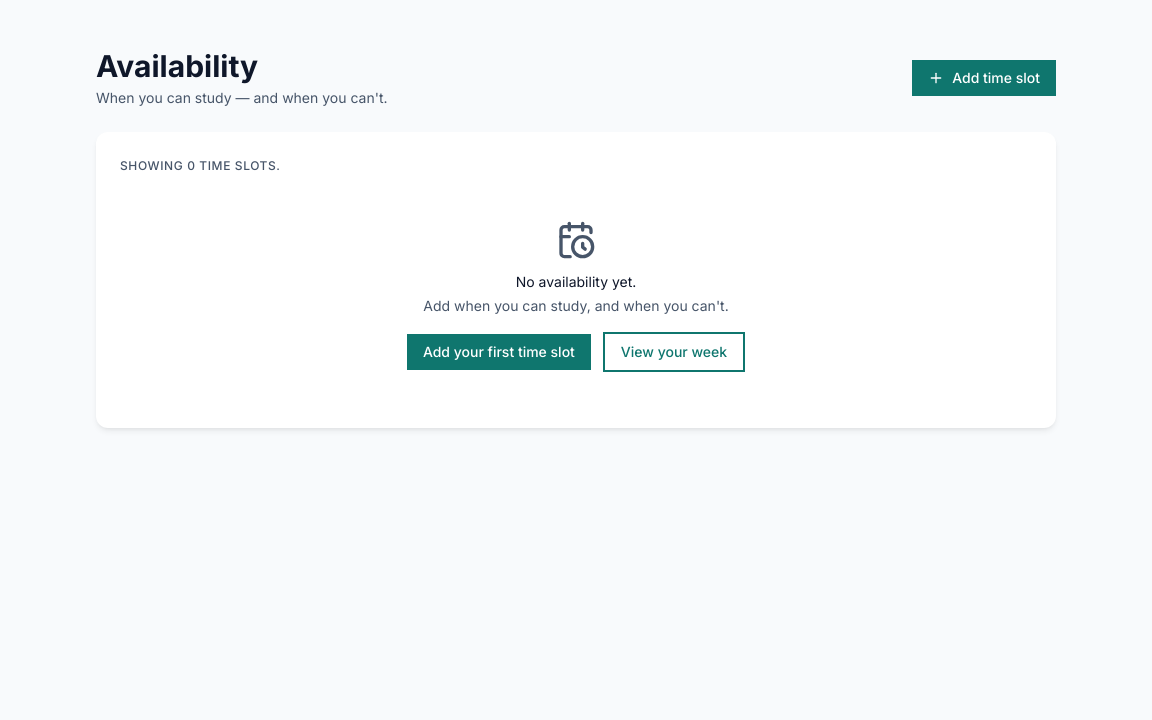
AvailabilityPage loading, empty, and error states (AC 6, D128B-10) › renders the empty state ("No availability yet.") with the working add CTA and the calendar link
Expected: the text "No availability yet." is shown, top-left (516, 273), bottom-right (636, 290)
Expected: the text "Add when you can study, and when you can't." is shown, top-left (423, 297), bottom-right (729, 314)
// The empty-state CTA opens the same dialog the header button opens.
Click the button "Add your first time slot": point(499, 352) top-left (407, 334), bottom-right (591, 370)
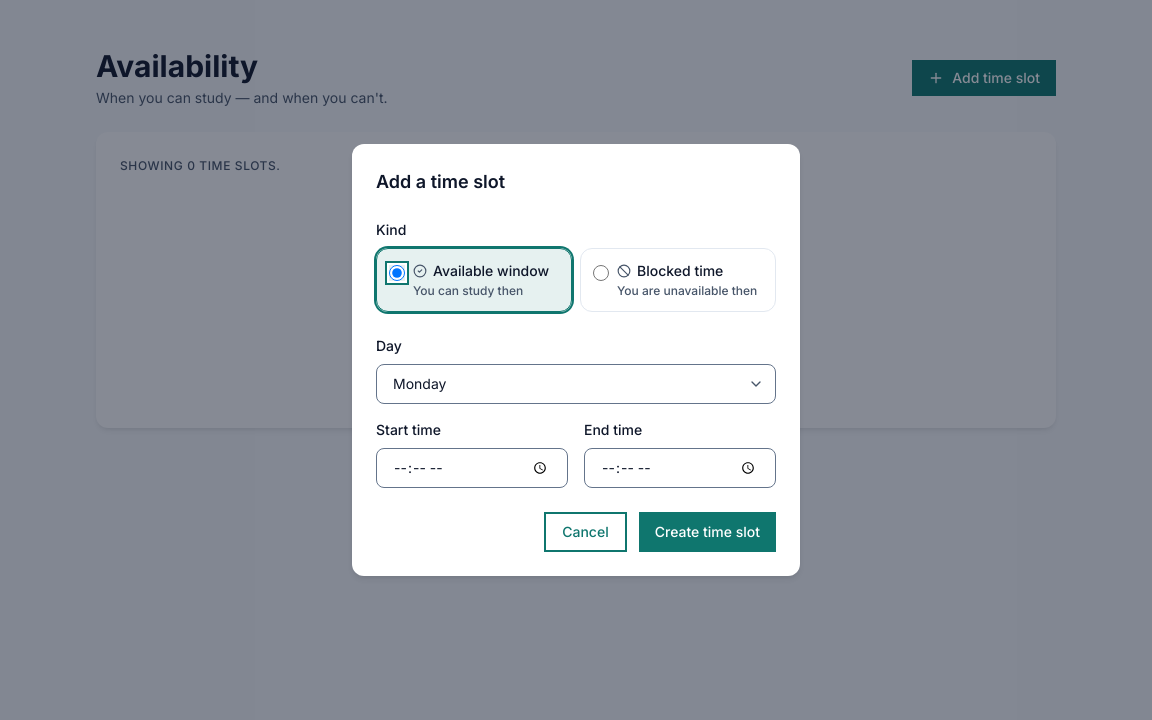
Result: the heading "Add a time slot" is shown at top-left (376, 171), bottom-right (505, 192)
